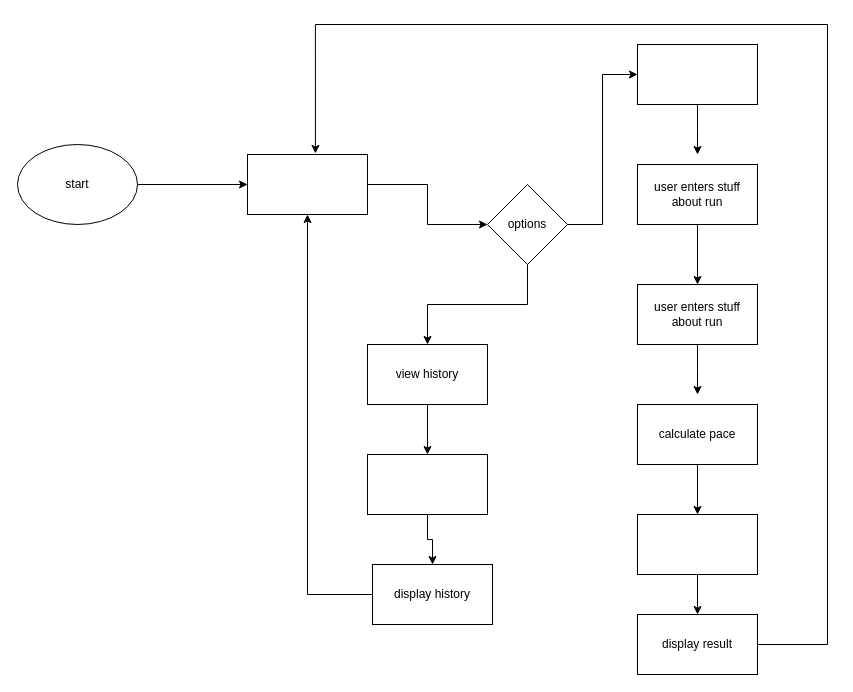
Image size: 853x692. Some labels were removed from this diagram. The centre of each missing label's shape, as x and y in pixels:
"add run" belongs at pixel 697 74.
"main menu" belongs at pixel 307 184.
"read csv" belongs at pixel 427 484.
"save to csv" belongs at pixel 697 544.
